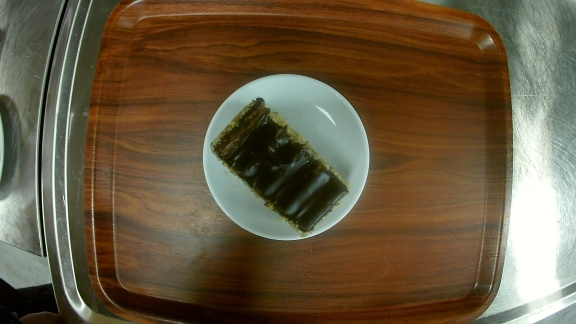muzlupasta: (203, 74, 370, 240)
